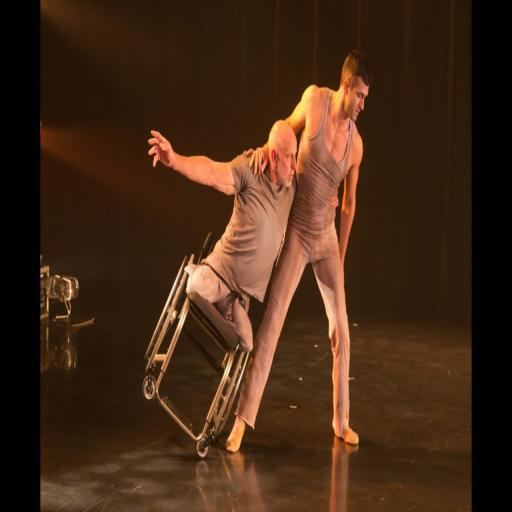cadeira_de_rodas: (120, 199, 275, 477)
